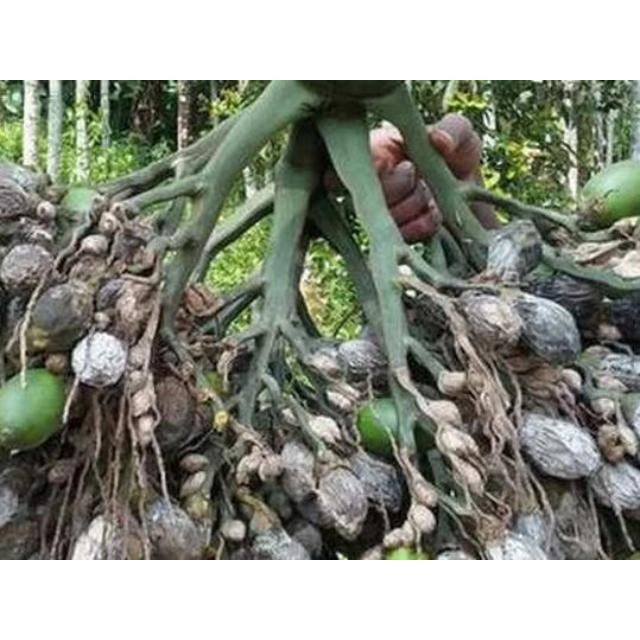damaged: (520, 414, 600, 480), (139, 496, 207, 560), (310, 466, 370, 536), (547, 487, 601, 559), (522, 274, 602, 322), (458, 291, 522, 349), (484, 220, 542, 282), (347, 452, 403, 516), (487, 510, 557, 560), (586, 458, 640, 514), (276, 440, 320, 504), (1, 243, 54, 295), (406, 290, 456, 342), (335, 339, 387, 383), (590, 351, 640, 395), (107, 222, 151, 268), (300, 345, 346, 385), (604, 298, 640, 346), (223, 345, 257, 389), (288, 520, 324, 558), (97, 278, 133, 314), (306, 414, 344, 448), (250, 403, 282, 441), (14, 219, 54, 249), (424, 399, 464, 427), (264, 487, 296, 521), (181, 490, 213, 522), (410, 476, 440, 509), (454, 460, 486, 490), (126, 482, 156, 514), (235, 454, 263, 486), (46, 458, 78, 486), (438, 428, 472, 454), (410, 504, 438, 534), (180, 470, 210, 498), (436, 369, 468, 395), (324, 390, 358, 414), (78, 233, 110, 257), (130, 388, 154, 420), (128, 340, 152, 372), (382, 526, 413, 550), (258, 456, 286, 482), (219, 519, 247, 543), (610, 217, 638, 240), (97, 210, 121, 236), (180, 454, 210, 474), (558, 368, 582, 392), (590, 397, 618, 417), (44, 353, 68, 375), (136, 413, 156, 439), (35, 200, 57, 222), (280, 408, 300, 428), (92, 311, 111, 329)
